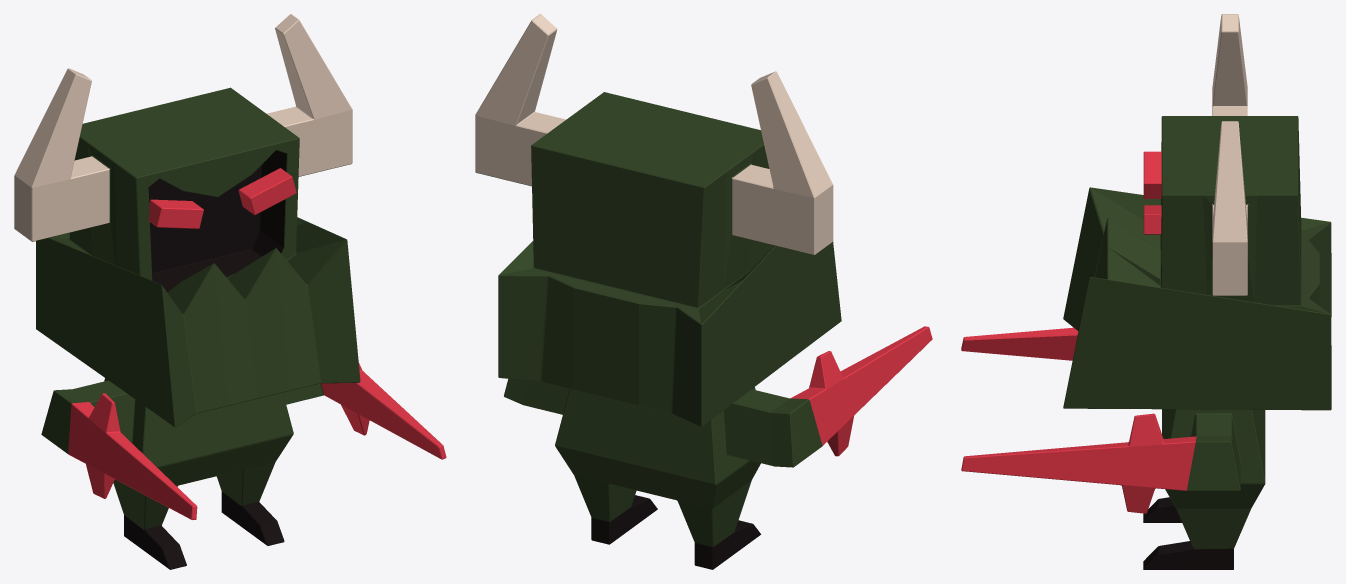
The model's file is Creature_Grass.fbx.
3 renders of one model, left to right at view 1: azimuth 30°, elevation 25°; view 2: azimuth 150°, elevation 25°; view 3: azimuth 270°, elevation 25°, orthographic. The views are drawn at different scales.
Parts seen in each view (by area): view 1: Cube.001; view 2: Cube.001; view 3: Cube.001.
Part boxes in pixels (x1,y1,x2,y2): Cube.001: (14, 14, 446, 569); Cube.001: (475, 14, 932, 569); Cube.001: (961, 14, 1331, 569).
Bounding box in the file's own units: 104 × 149 × 105.
